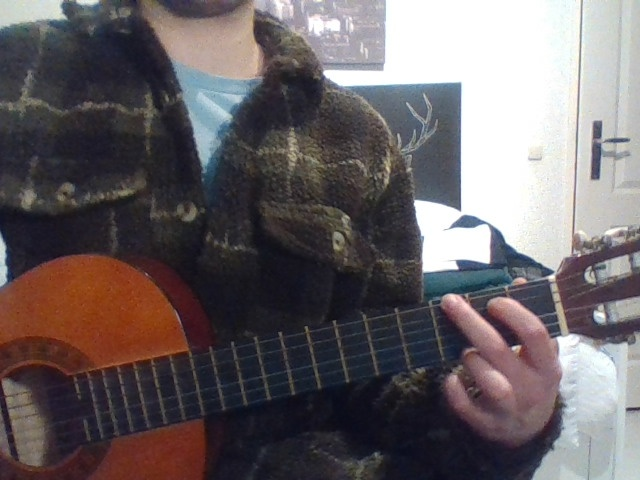G: (428, 274, 599, 468)
